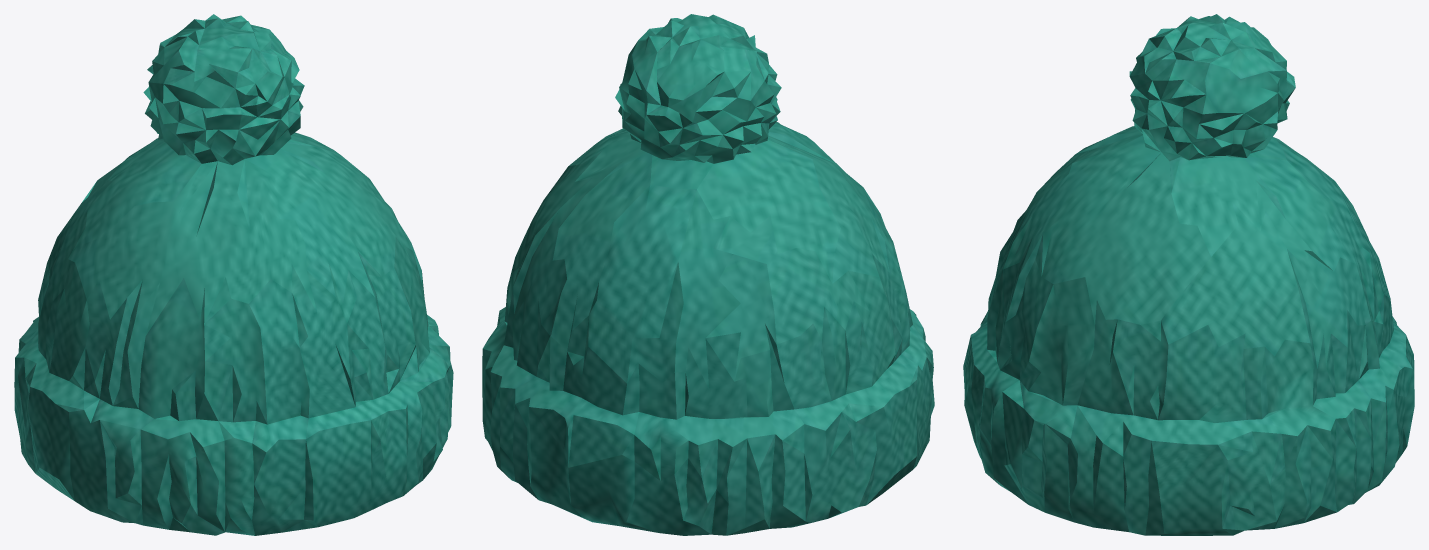
File: hat_beanie.fbx
The picture shows the model from 3 angles, left to right: view 1: azimuth 30°, elevation 25°; view 2: azimuth 150°, elevation 25°; view 3: azimuth 270°, elevation 25°; orthographic projection. The views are drawn at different scales.
Parts seen in each view (by area): view 1: Mesh_0; view 2: Mesh_0; view 3: Mesh_0.
Boxes of the visible parts, x1,y1,x2,y2 form: Mesh_0: (14,14,453,535); Mesh_0: (482,14,934,535); Mesh_0: (963,14,1414,535).
Size of the model in its own units: 1.78 by 1.9 by 1.8.
1 material, 1 textured.
